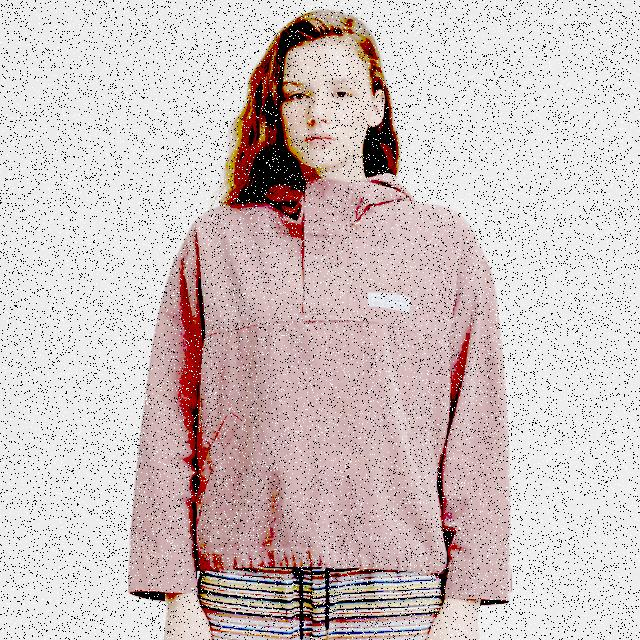dress: (125, 167, 524, 612)
